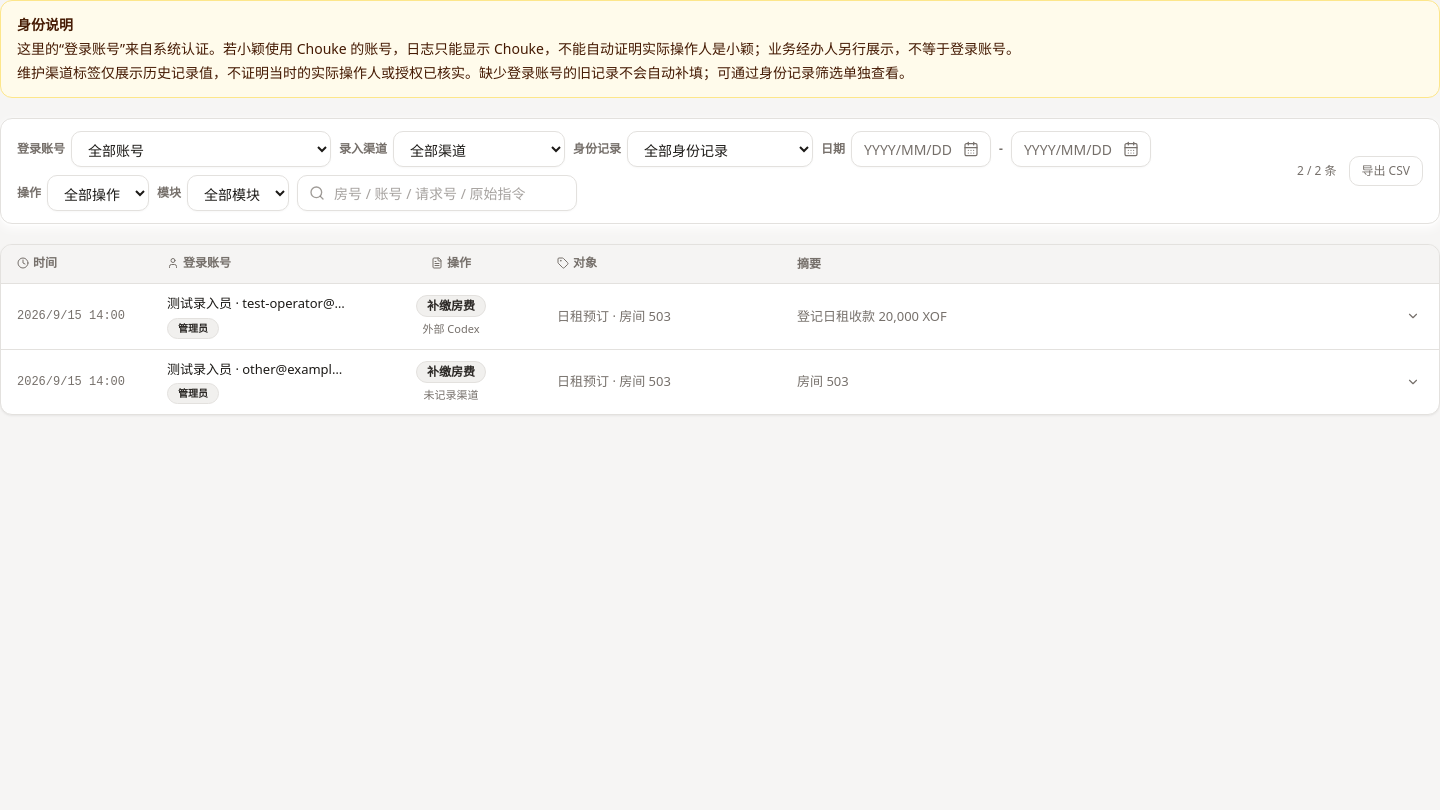
Test case: audit reader interactions › filters channels and closes stale detail
Step 1. Click the button named "查看业务操作详情" in the row of "测试录入员 · test-operator@example.invalid" → x=1413, y=316, box [1399,302,1427,330]
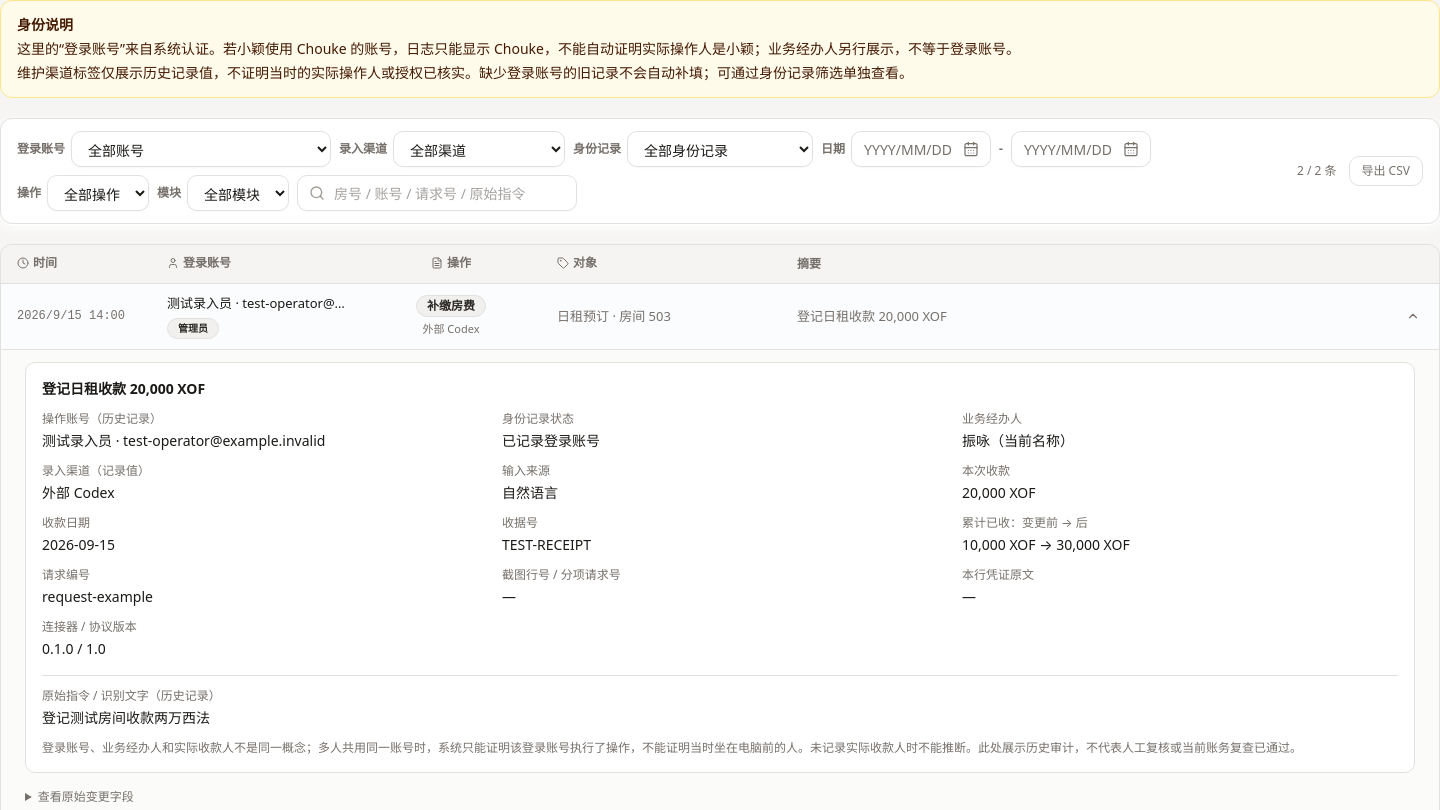
Step 2. Select "未记录渠道" in the dropdown named "录入渠道筛选" → x=479, y=149, box [393,131,565,167]
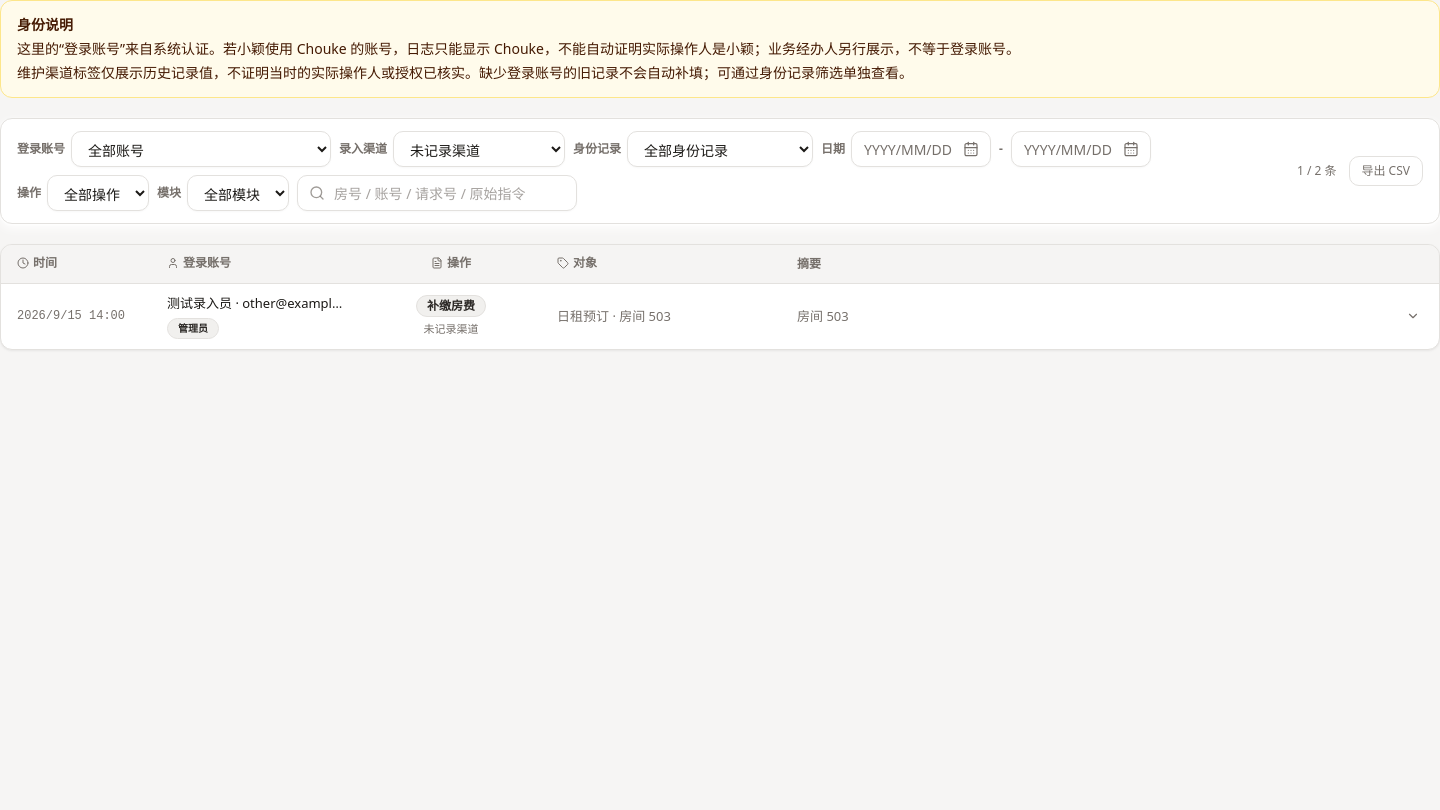
Expected: the table shows "未记录渠道", [424,321,478,336]
Result: the element named "业务操作详情" is gone
